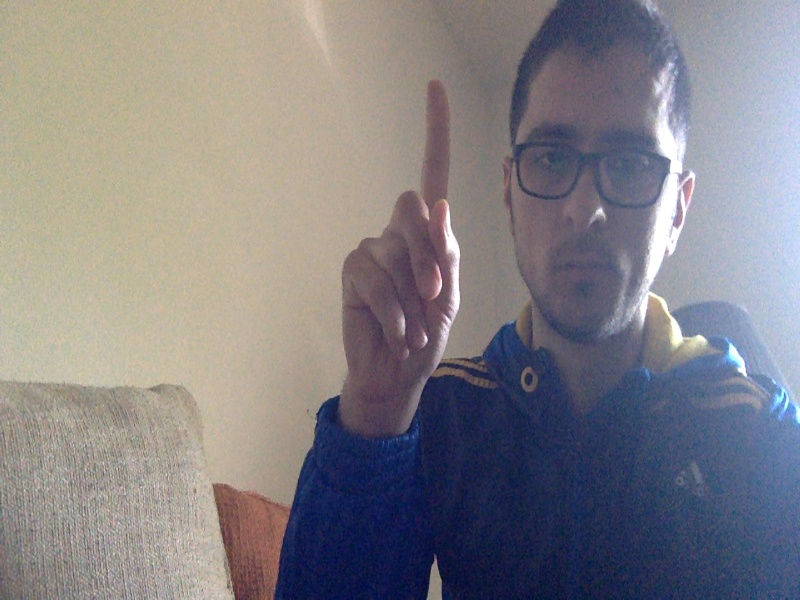1-hand: (343, 81, 457, 408)
